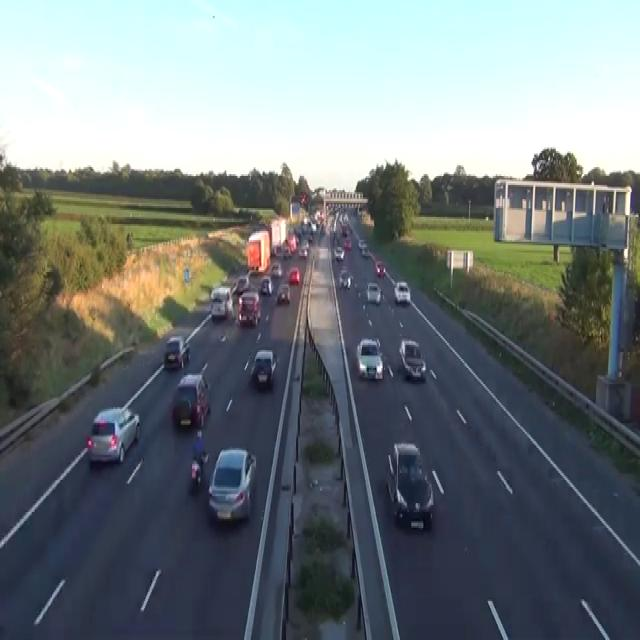Car: (386, 441, 434, 530), (207, 446, 256, 524), (86, 405, 140, 464), (171, 372, 210, 428), (398, 338, 426, 378), (356, 338, 383, 378), (250, 348, 276, 389), (190, 428, 208, 486), (163, 336, 190, 370), (237, 290, 260, 325), (210, 286, 233, 320), (394, 281, 411, 304), (366, 281, 381, 304), (233, 276, 250, 295), (276, 283, 290, 304), (338, 267, 352, 288), (258, 276, 273, 295), (191, 459, 201, 485), (288, 266, 300, 284), (298, 240, 308, 258), (287, 233, 297, 251), (333, 246, 344, 262), (271, 262, 282, 278), (375, 262, 385, 278), (315, 208, 324, 222), (283, 246, 291, 260), (343, 238, 352, 249), (274, 244, 282, 256), (358, 238, 366, 249), (361, 245, 369, 256), (300, 192, 307, 204), (231, 279, 237, 293), (356, 206, 362, 219), (341, 224, 347, 235), (307, 233, 313, 242), (311, 221, 316, 231)
Truck: (246, 228, 270, 272)
